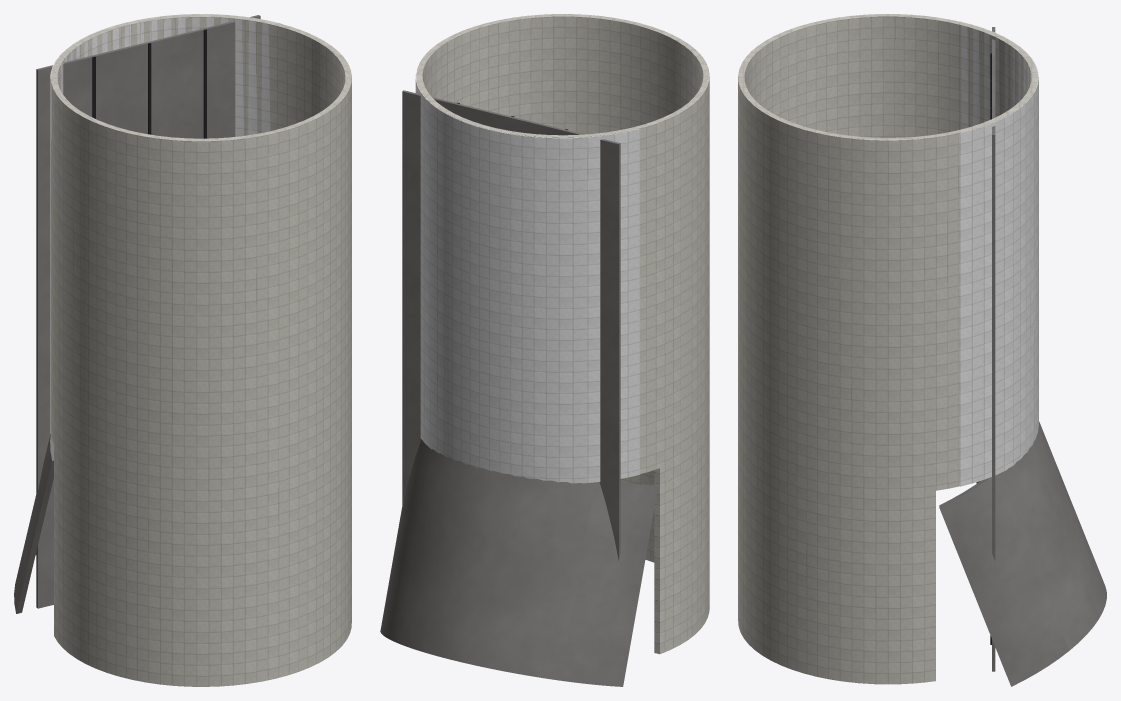
Rendered from aero03_cargo_bay_mk3_ramp_750_ramp_open.glb.
3 views of the same model, side by side, from view 1: azimuth 30°, elevation 25°; view 2: azimuth 150°, elevation 25°; view 3: azimuth 270°, elevation 25° (orthographic). The views are drawn at different scales.
Visible parts, largest first — view 1: fuselage, cargo_floor, belly_tiles, ramp, floor_rails; view 2: belly_tiles, fuselage, ramp, cargo_floor; view 3: fuselage, belly_tiles, ramp, cargo_floor.
Boxes of the visible parts, x1,y1,x2,y2 form: fuselage: [51, 14, 351, 686]; cargo_floor: [36, 15, 260, 608]; belly_tiles: [50, 14, 279, 433]; ramp: [14, 434, 53, 613]; floor_rails: [92, 29, 206, 138]; belly_tiles: [415, 75, 639, 483]; fuselage: [416, 14, 709, 654]; ramp: [380, 439, 658, 686]; cargo_floor: [402, 90, 620, 560]; fuselage: [738, 14, 1037, 684]; belly_tiles: [960, 21, 1038, 486]; ramp: [939, 421, 1106, 686]; cargo_floor: [992, 27, 995, 671].
Bounding box in the file's own units: 3.75 × 7.58 × 4.61.
4 materials, 3 textured.
